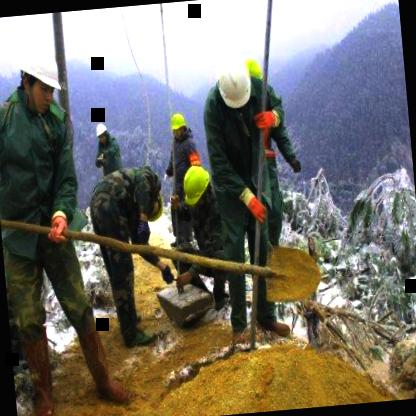helmet: (12, 34, 64, 118), (212, 48, 258, 110), (180, 161, 214, 211), (142, 186, 168, 222), (166, 110, 190, 145), (92, 118, 114, 146)
